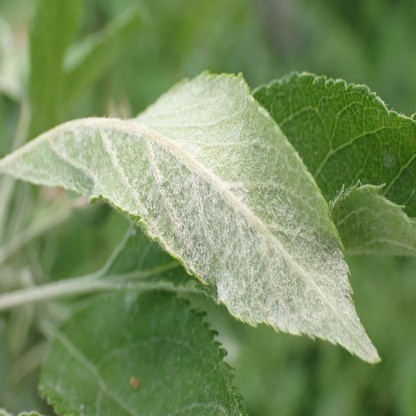powdery_mildew: (0, 71, 381, 363), (39, 292, 242, 416), (329, 180, 416, 255)
